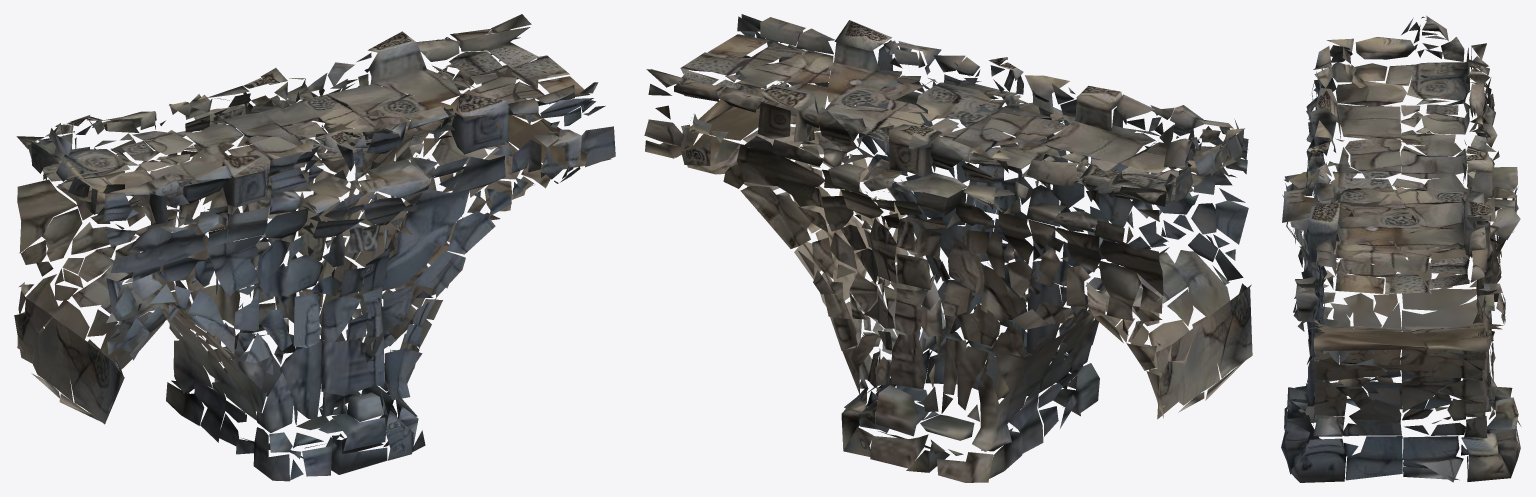
The model's file is arch_bridge_span_LOD2.glb.
3 renders of one model, left to right at view 1: azimuth 30°, elevation 25°; view 2: azimuth 150°, elevation 25°; view 3: azimuth 270°, elevation 25°, orthographic. The views are drawn at different scales.
Parts seen in each view (by area): view 1: tripo_node_e0c340e7-bc99-4b1c-ba89-c9116086cf4d; view 2: tripo_node_e0c340e7-bc99-4b1c-ba89-c9116086cf4d; view 3: tripo_node_e0c340e7-bc99-4b1c-ba89-c9116086cf4d.
Boxes of the visible parts, <box> form: tripo_node_e0c340e7-bc99-4b1c-ba89-c9116086cf4d: <box>14,14,615,481</box>; tripo_node_e0c340e7-bc99-4b1c-ba89-c9116086cf4d: <box>644,14,1252,482</box>; tripo_node_e0c340e7-bc99-4b1c-ba89-c9116086cf4d: <box>1281,15,1521,482</box>.
Bounding box in the file's own units: 1.01 × 0.6575 × 0.4352.
Materials: 1 (1 with a texture image).
